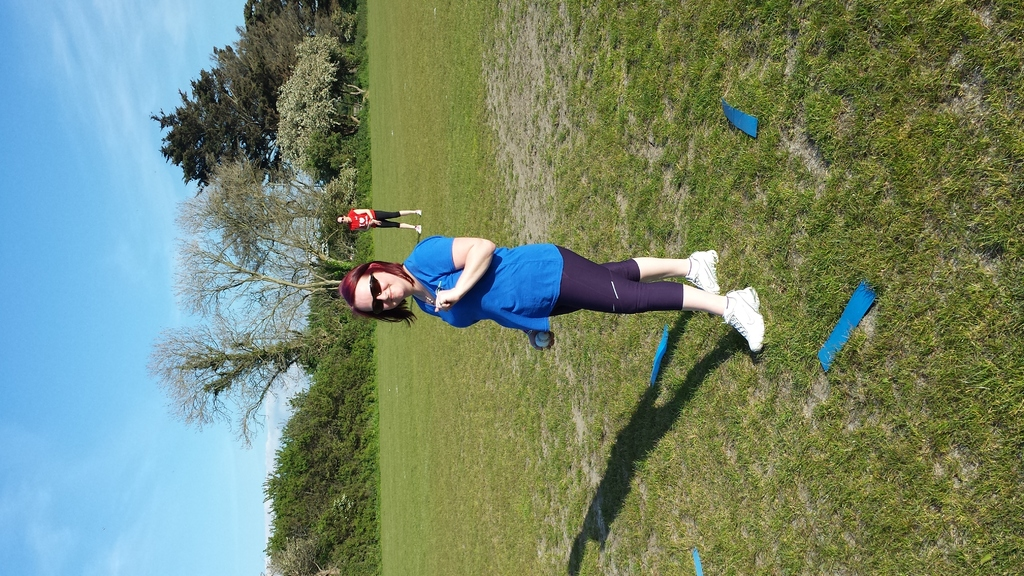Tree: (145, 0, 378, 575)
